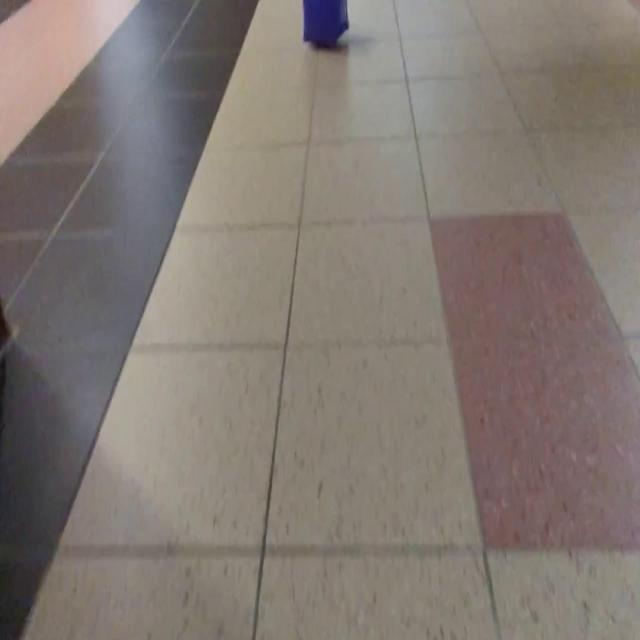frc_cube: (299, 0, 349, 48)
